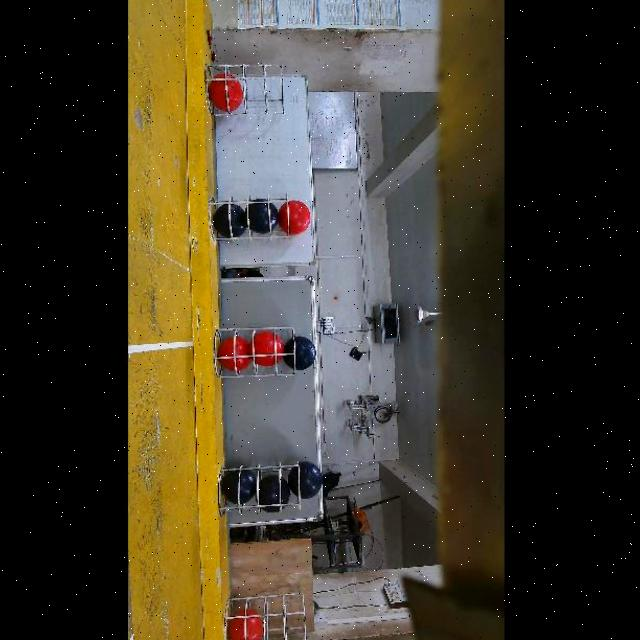P: (288, 461, 323, 499), (221, 470, 256, 506), (259, 474, 290, 513), (213, 204, 247, 238), (282, 337, 316, 371), (248, 198, 280, 234)
R: (208, 73, 243, 112), (278, 200, 311, 235), (218, 337, 251, 371), (227, 609, 263, 640), (254, 332, 285, 367)
S: (214, 324, 298, 384), (208, 65, 286, 125), (220, 464, 300, 518), (220, 590, 304, 640), (210, 192, 292, 240)
